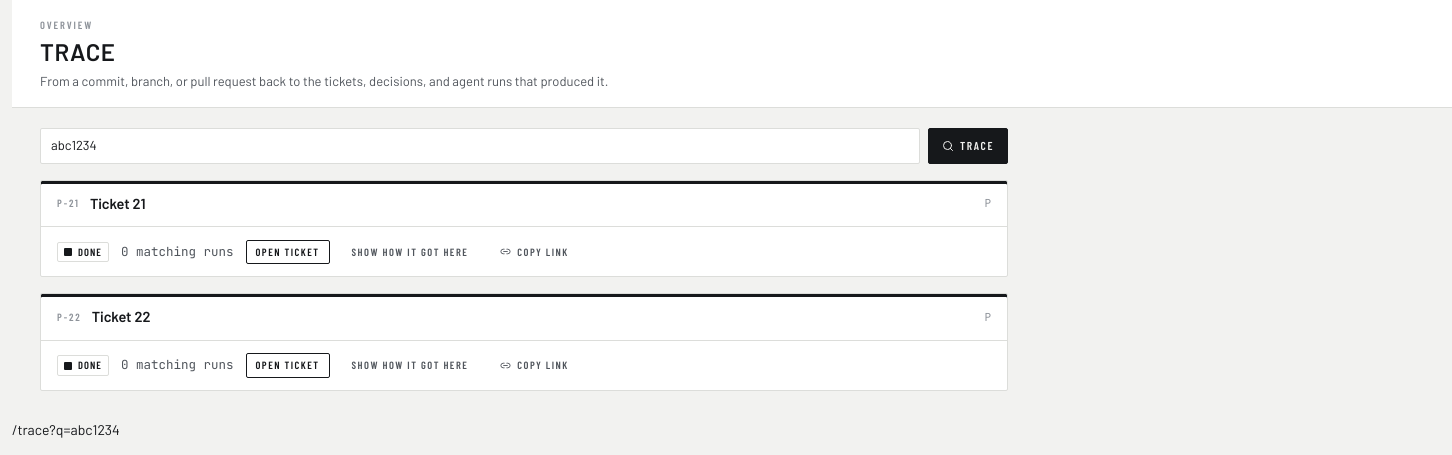
Trace in the URL › each story has a Copy link that reproduces the expanded view
This screenshot has width=1452, height=455.
Check: the heading "Ticket 21" is shown, box [90, 193, 146, 214]
Click the 2nd button "Copy link" at (535, 366), box [490, 353, 579, 378]
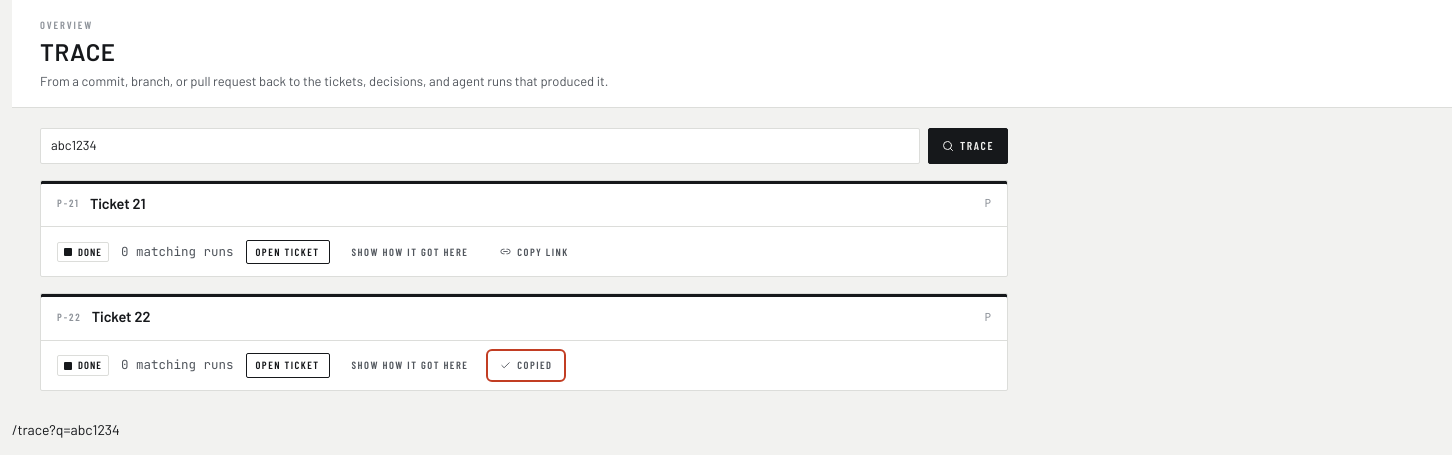
Check: the button "Copied" is shown, box [490, 353, 562, 378]
